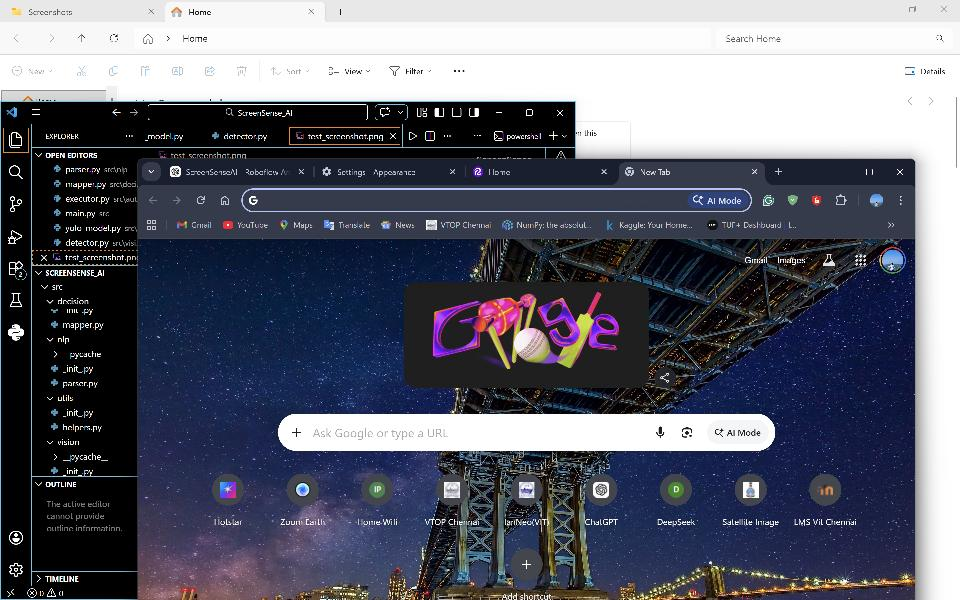close_button: (551, 103, 570, 122), (891, 162, 909, 182), (932, 3, 955, 17)
maximize_button: (859, 162, 880, 183), (520, 104, 540, 121), (904, 2, 922, 18)
minimize_button: (830, 162, 850, 182), (871, 3, 896, 18), (490, 104, 509, 121)
